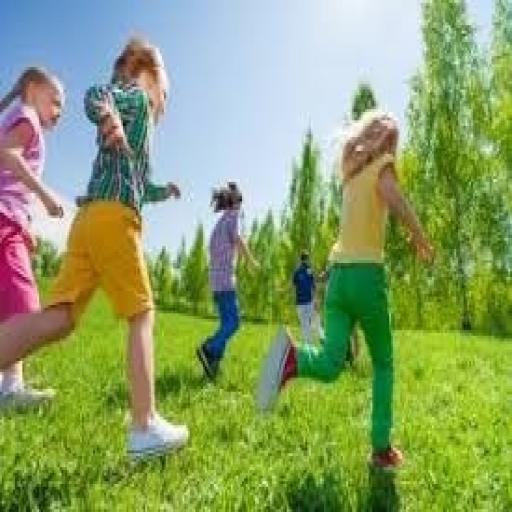running: (0, 34, 192, 462)
